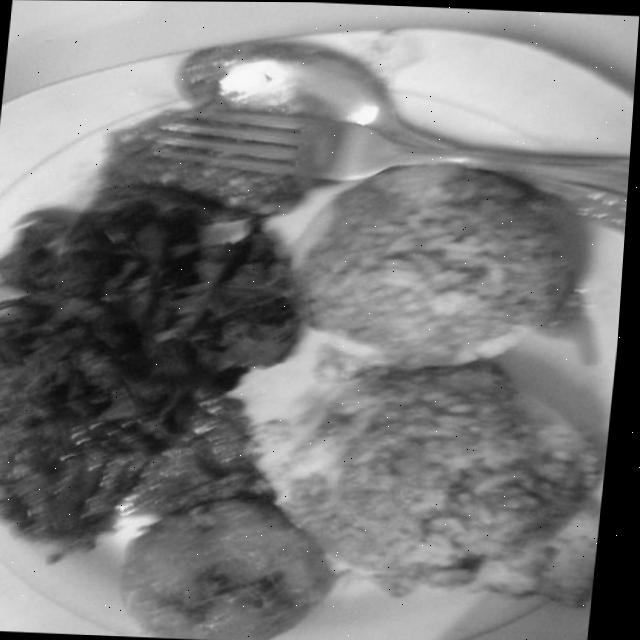米饭主食: (0, 9, 640, 640)
